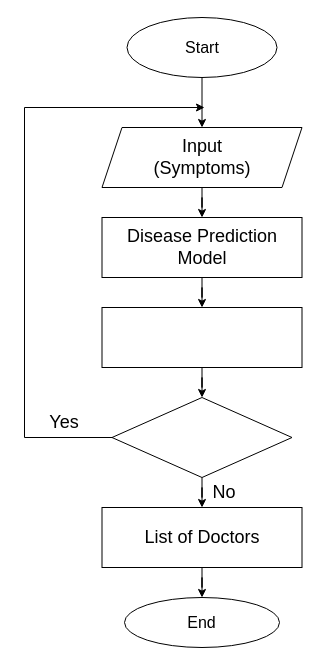
The diagram is 320 pixels wide and 665 high, and some of its shapes have lost their labels. Each missing label, with the centre of its shape:
if accuracy < 50: the point at 201,437
Predicted Result: the point at 201,337
